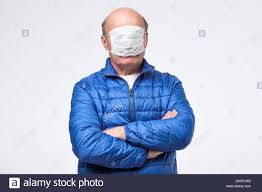masked: (98, 8, 149, 69)
